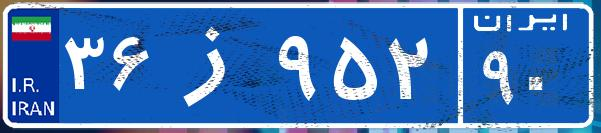0: (525, 38, 570, 115)
2: (385, 28, 445, 110)
3: (57, 26, 110, 107)
5: (330, 28, 385, 110)
6: (110, 28, 158, 105)
9: (273, 28, 330, 110), (475, 38, 525, 113)
ز: (158, 15, 273, 115)
